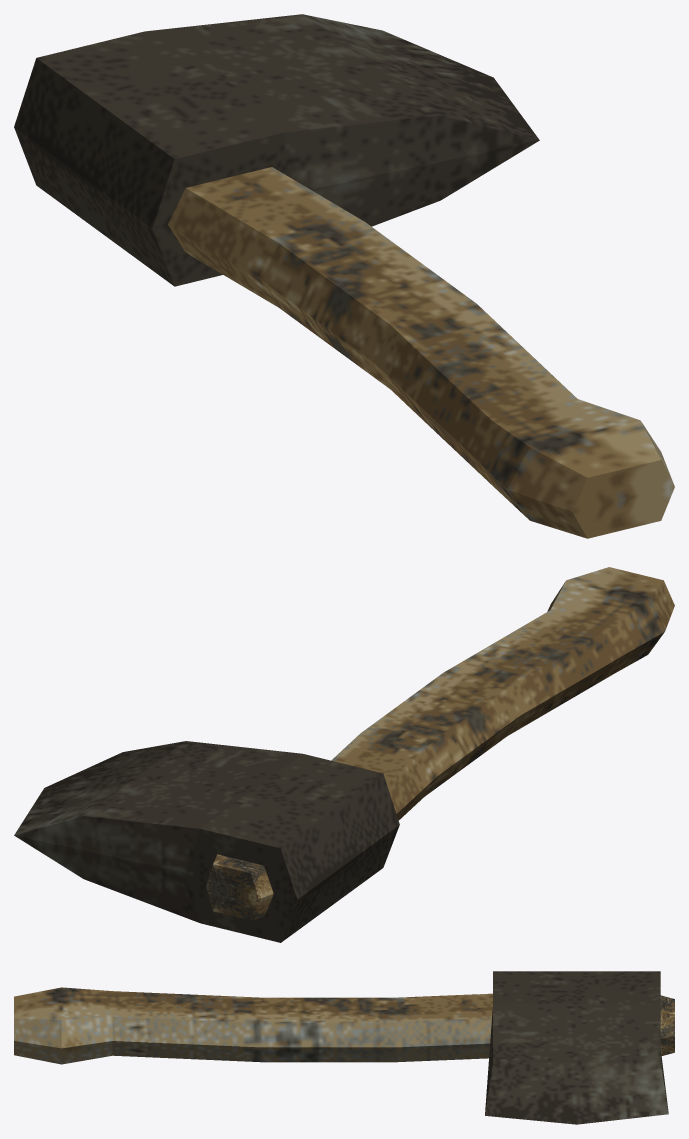
Rendered from axe.fbx.
3 renders of one model, top to bottom at view 1: azimuth 30°, elevation 25°; view 2: azimuth 150°, elevation 25°; view 3: azimuth 270°, elevation 25°, orthographic. The views are drawn at different scales.
Parts seen in each view (by area): view 1: Cube; view 2: Cube; view 3: Cube.
Boxes of the visible parts, x1,y1,x2,y2 form: Cube: (14,14,674,538); Cube: (14,567,674,942); Cube: (14,971,674,1124).
Bounding box in the file's own units: 185 × 54.8 × 425.
Materials: 1 (1 with a texture image).
